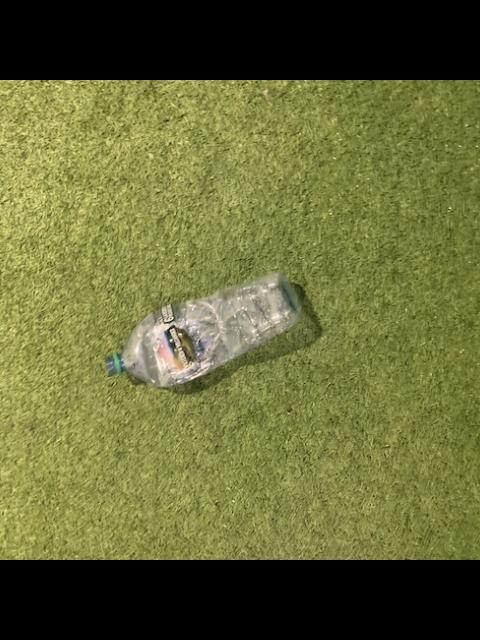plastic: (104, 274, 298, 388)
